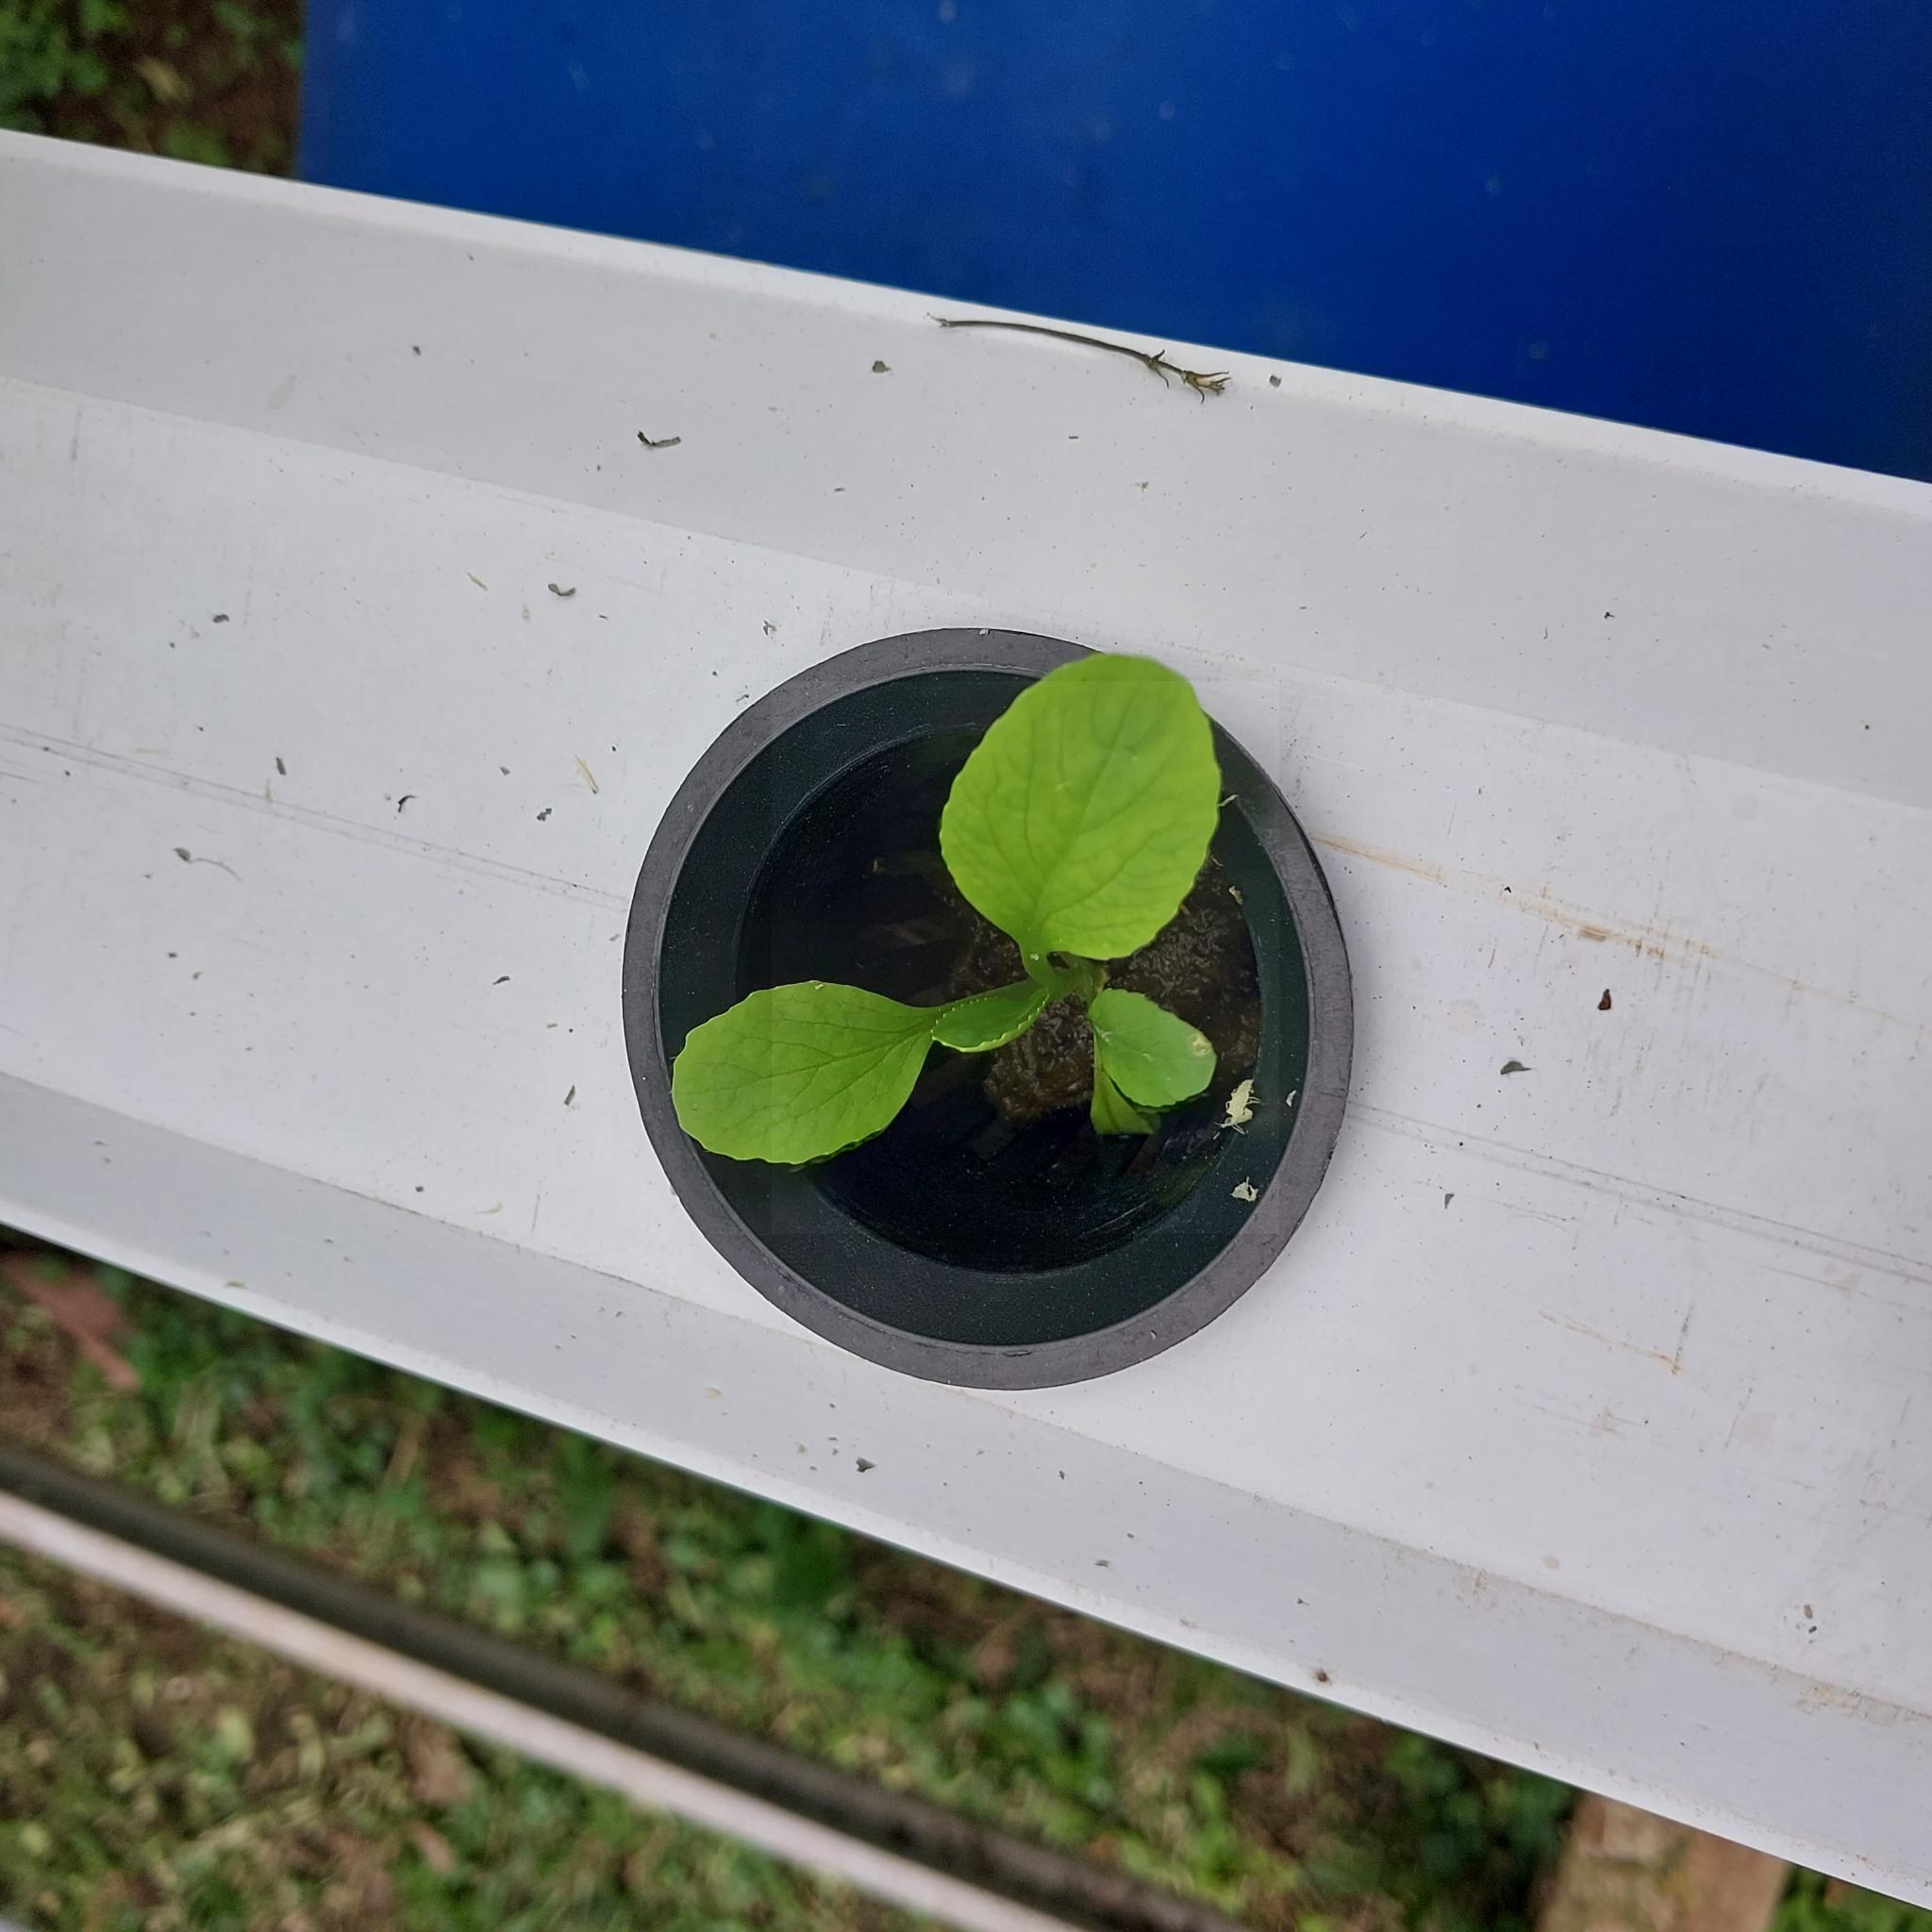Healthy-Pechay: (936, 646, 1223, 977), (667, 978, 966, 1166), (1081, 987, 1215, 1127)
